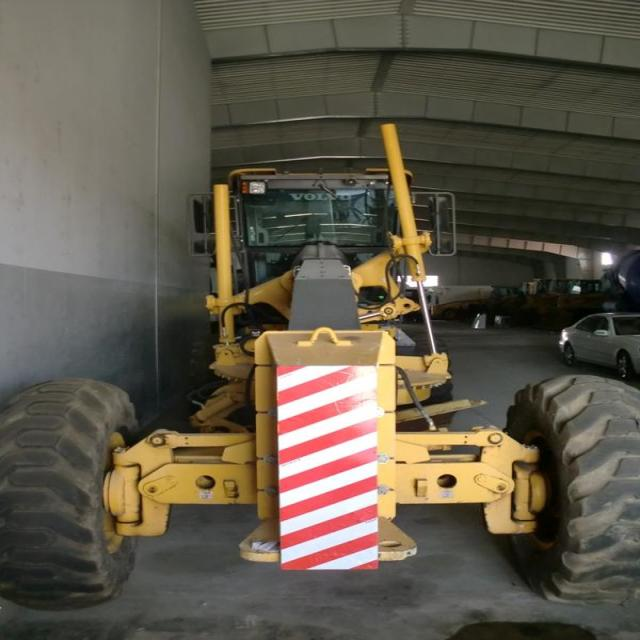Grader: (0, 146, 639, 609)
